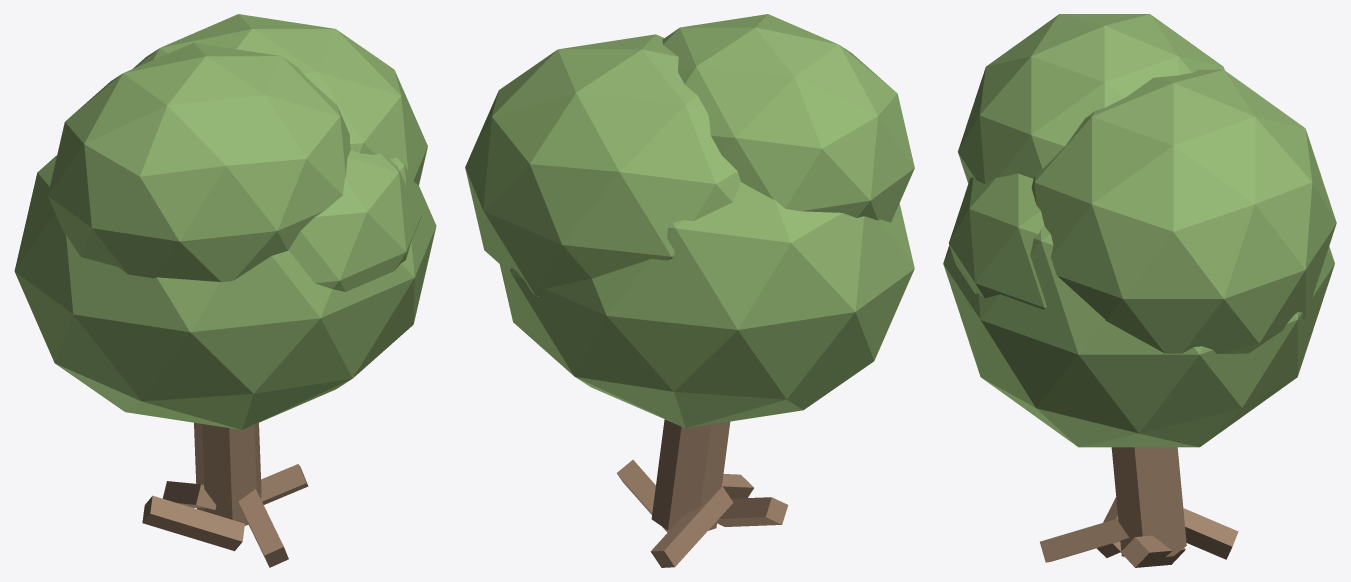
Rendered from tree.glb.
3 views of the same model, side by side, from view 1: azimuth 30°, elevation 25°; view 2: azimuth 150°, elevation 25°; view 3: azimuth 270°, elevation 25° (orthographic). The views are drawn at different scales.
Visible parts, largest first — view 1: Tree_Leaf_2.001, Tree_Leaf_0.001, Tree_Leaf_1.001, Tree_Leaf_3.001, Tree_Trunk.001, Tree_Root_2.001, Tree_Root_3.001, Tree_Root_0.001, Tree_Root_1.001; view 2: Tree_Leaf_0.001, Tree_Leaf_1.001, Tree_Leaf_2.001, Tree_Trunk.001, Tree_Root_1.001, Tree_Root_2.001, Tree_Root_0.001, Tree_Root_3.001; view 3: Tree_Leaf_1.001, Tree_Leaf_0.001, Tree_Leaf_2.001, Tree_Leaf_3.001, Tree_Trunk.001, Tree_Root_3.001, Tree_Root_1.001, Tree_Root_0.001.
Part boxes in pixels (x1=…): Tree_Leaf_2.001: x1=48, y1=42, x2=350, y2=282; Tree_Leaf_0.001: x1=14, y1=155, x2=436, y2=429; Tree_Leaf_1.001: x1=133, y1=14, x2=427, y2=185; Tree_Leaf_3.001: x1=289, y1=149, x2=421, y2=291; Tree_Trunk.001: x1=194, y1=422, x2=261, y2=525; Tree_Root_2.001: x1=142, y1=495, x2=244, y2=551; Tree_Root_3.001: x1=238, y1=489, x2=288, y2=567; Tree_Root_0.001: x1=261, y1=464, x2=308, y2=504; Tree_Root_1.001: x1=163, y1=481, x2=216, y2=509; Tree_Leaf_0.001: x1=499, y1=182, x2=914, y2=428; Tree_Leaf_1.001: x1=465, y1=34, x2=740, y2=296; Tree_Leaf_2.001: x1=662, y1=14, x2=914, y2=222; Tree_Trunk.001: x1=651, y1=419, x2=730, y2=530; Tree_Root_1.001: x1=650, y1=486, x2=733, y2=567; Tree_Root_2.001: x1=717, y1=497, x2=788, y2=526; Tree_Root_0.001: x1=617, y1=460, x2=668, y2=532; Tree_Root_3.001: x1=722, y1=474, x2=753, y2=498; Tree_Leaf_1.001: x1=1031, y1=69, x2=1336, y2=353; Tree_Leaf_0.001: x1=943, y1=226, x2=1334, y2=447; Tree_Leaf_2.001: x1=958, y1=14, x2=1224, y2=184; Tree_Leaf_3.001: x1=948, y1=173, x2=1046, y2=309; Tree_Trunk.001: x1=1111, y1=447, x2=1186, y2=557; Tree_Root_3.001: x1=1040, y1=518, x2=1129, y2=562; Tree_Root_1.001: x1=1183, y1=508, x2=1238, y2=559; Tree_Root_0.001: x1=1121, y1=535, x2=1185, y2=567.
Size of the model in its own units: 2.6 by 3.32 by 2.29.
